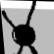not correct: (0, 0, 43, 54)
